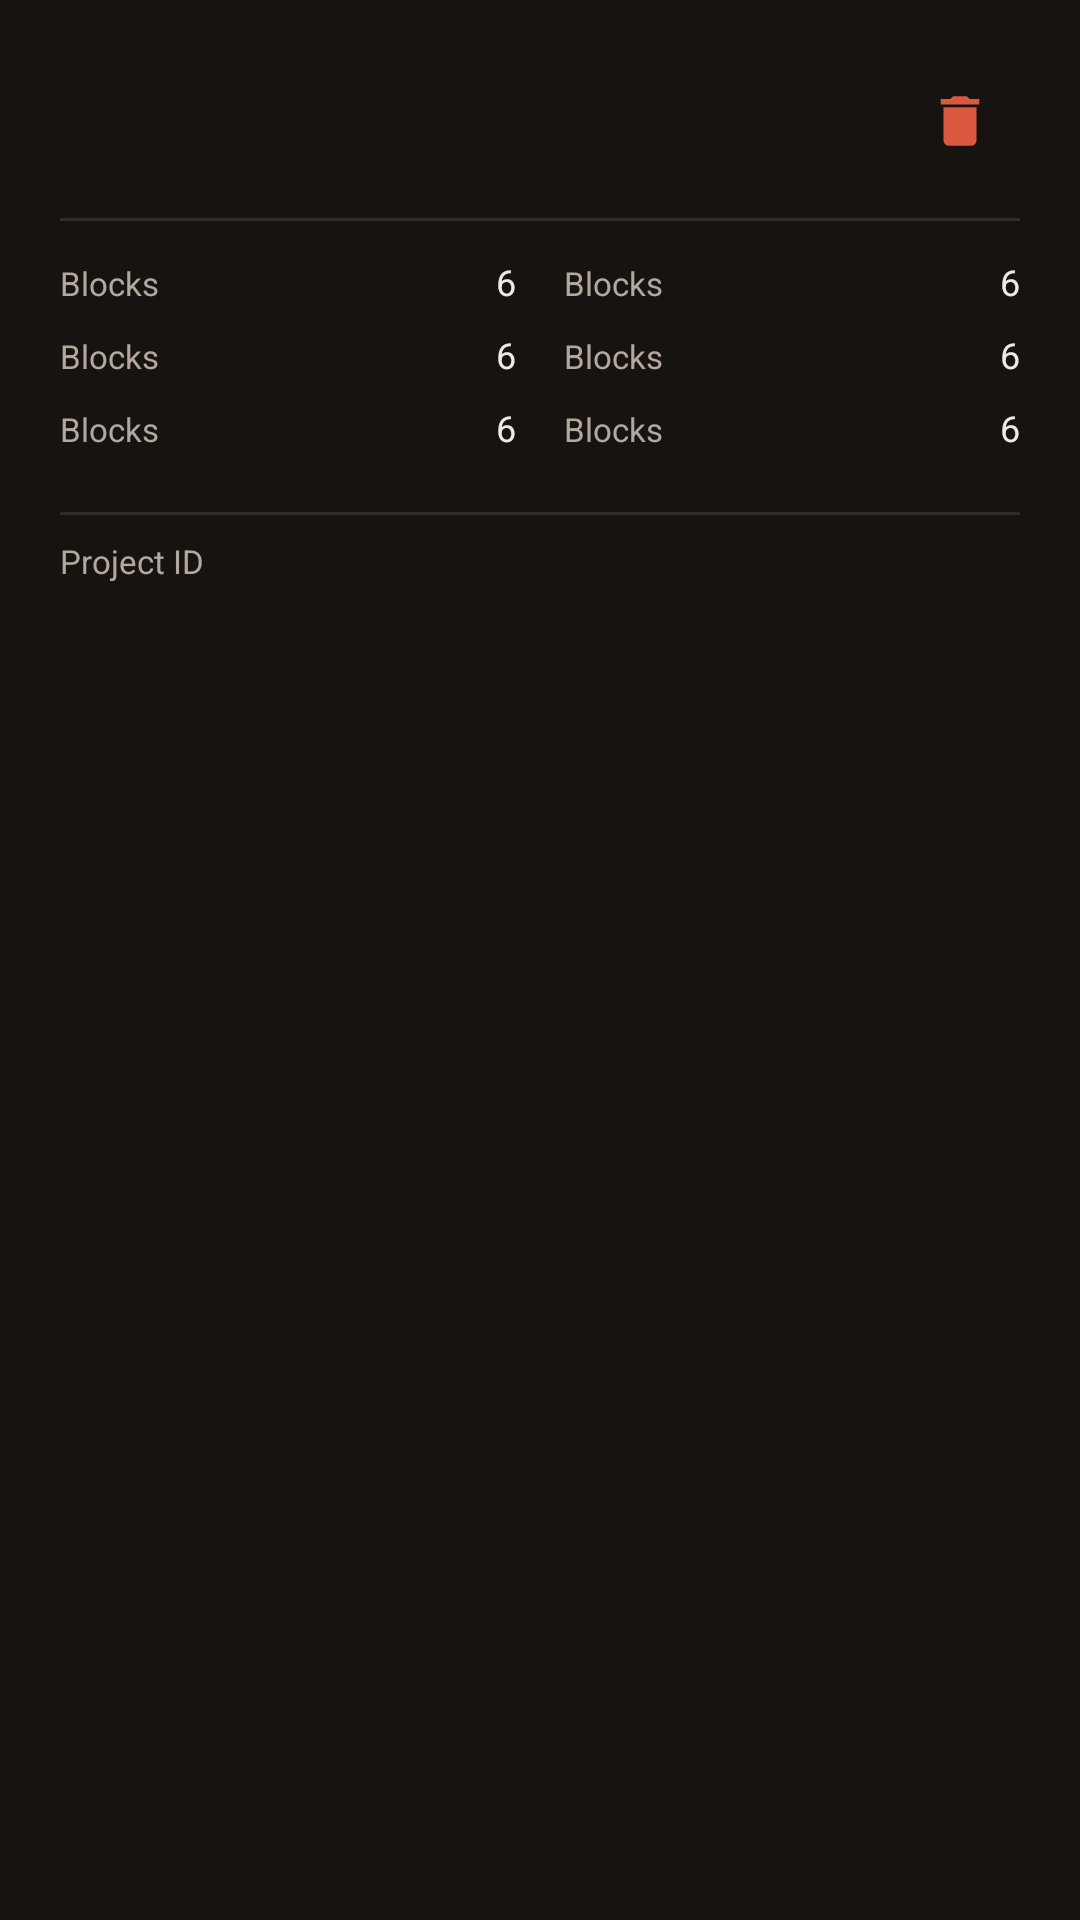

Named icons in this screenshot (1080px×1920px) and their centers, [x,y]:
Delete: [960,121]
